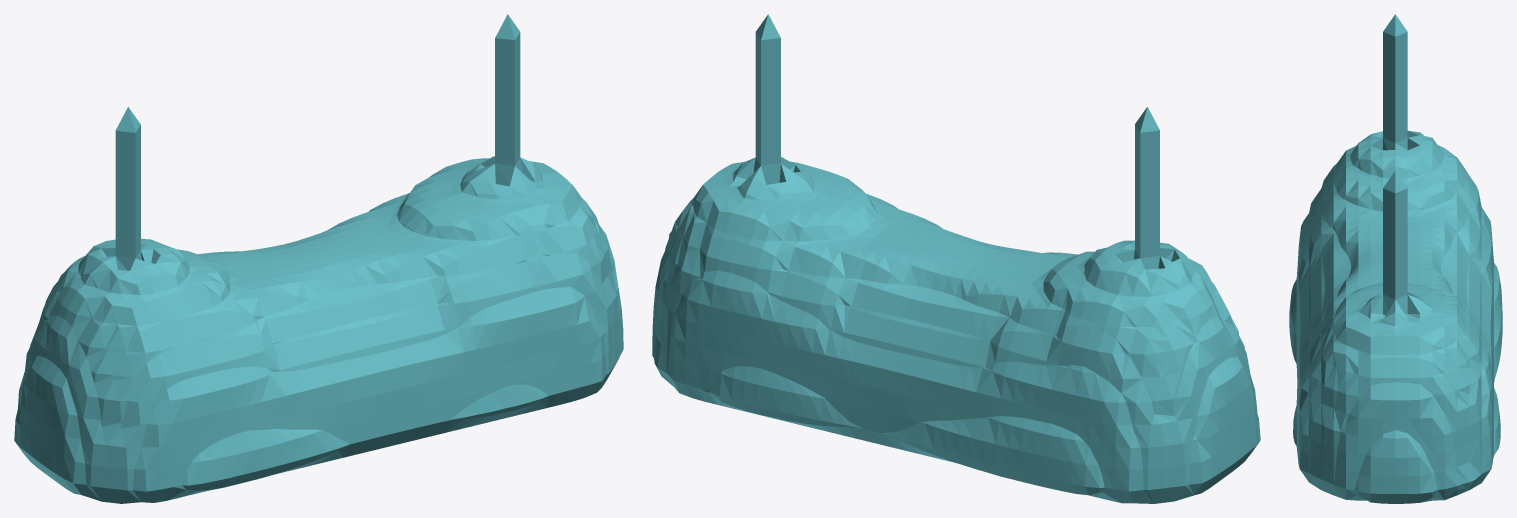
The model's file is cave-c9-0.9.glb.
3 renders of one model, left to right at view 1: azimuth 30°, elevation 25°; view 2: azimuth 150°, elevation 25°; view 3: azimuth 270°, elevation 25°, orthographic. The views are drawn at different scales.
Visible parts, largest first — view 1: geometry_0; view 2: geometry_0; view 3: geometry_0.
Part boxes in pixels (x1=…): geometry_0: x1=14, y1=14, x2=623, y2=503; geometry_0: x1=652, y1=14, x2=1260, y2=503; geometry_0: x1=1289, y1=14, x2=1502, y2=503.
Bounding box in the file's own units: 172 × 103 × 66.27.
